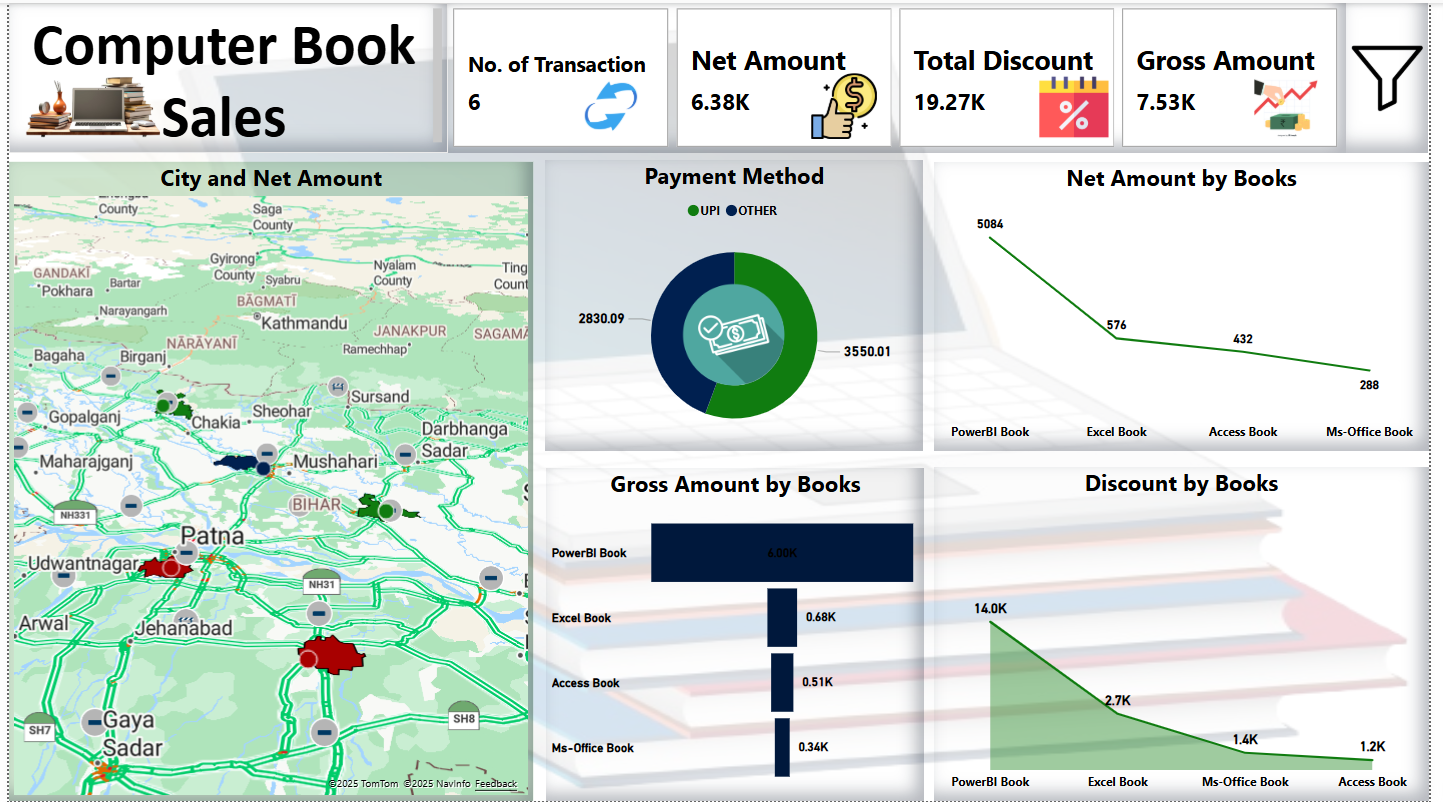

The dashboard page shown, as its layout file describes it:
{"tool":"powerbi","page":{"name":"Book sales Dashboards","canvas":[1280,720],"ordinal":0},"visuals":[{"type":"textbox","box":[0,0,395.7,135.1],"z":0},{"type":"shape","box":[835.2,165.1,373.3,529.1],"z":0,"group":"g1"},{"type":"areaChart","fields":{"Category":["7 Days Books Sales Report File.Books"],"Y":["Sum(7 Days Books Sales Report File.Discount)"]},"box":[833.7,418.6,446.4,301.6],"z":1000},{"type":"advancedSlicerVisual","fields":{"Values":["7 Days Books Sales Report File.State"]},"box":[835,236.2,365.6,286.1],"z":2000,"group":"g1"},{"type":"lineChart","fields":{"Category":["7 Days Books Sales Report File.Books"],"Y":["Sum(7 Days Books Sales Report File.Net Amount)"]},"box":[833.7,143.6,446.4,260.6],"z":2000},{"type":"advancedSlicerVisual","fields":{"Values":["7 Days Books Sales Report File.Payment Method"]},"box":[836.2,521.1,366.8,198.1],"z":3000,"group":"g1"},{"type":"funnel","title":"Gross Amount by Books","fields":{"Category":["7 Days Books Sales Report File.Books"],"Y":["Sum(7 Days Books Sales Report File.Gross Amount)"]},"box":[484.2,418.8,340.9,300.5],"z":3000},{"type":"image","box":[981,163.9,80.4,56.5],"z":4000,"group":"g1"},{"type":"donutChart","title":"Payment Method","fields":{"Category":["7 Days Books Sales Report File.Payment Method"],"Y":["Sum(7 Days Books Sales Report File.Net Amount)"]},"box":[483,141.8,341.2,261.7],"z":4000},{"type":"image","box":[602,235.3,103.8,127.9],"z":5000},{"type":"azureMap","fields":{"Category":["7 Days Books Sales Report File.City"],"Series":["7 Days Books Sales Report File.Net Amount"]},"box":[0,143.6,472.9,576.7],"z":6000},{"type":"cardVisual","fields":{"Data":["CountNonNull(7 Days Books Sales Report File.User ID)","Sum(7 Days Books Sales Report File.Net Amount)","Sum(7 Days Books Sales Report File.Discount)","Sum(7 Days Books Sales Report File.Gross Amount)"]},"box":[395.7,0,809.5,135.1],"z":7000},{"type":"group","id":"g1","title":"Group 1","box":[835,163.9,373.5,555.3],"z":8000},{"type":"image","box":[1206.1,0,73.9,135.3],"z":9000},{"type":"image","box":[483.8,59.1,118.2,68.8],"z":10000},{"type":"image","box":[714.2,59.1,77.2,68.8],"z":11000},{"type":"image","box":[924.1,53.1,72.4,82],"z":12000},{"type":"image","box":[1099.1,59.1,107.4,68.8],"z":13000},{"type":"image","box":[0,22.9,152,143.6],"z":14000}]}

Visuals, with their boxes in screenshot pixels (x1, y1, x2, y2), scaled from the page's 1280x720 canvas onto the 1443x802 screenshot:
textbox: bbox=[0, 0, 446, 150]
shape: bbox=[942, 184, 1362, 773]
areaChart - 7 Days Books Sales Report File.Books x Sum(7 Days Books Sales Report File.Discount): bbox=[940, 466, 1442, 801]
advancedSlicerVisual - 7 Days Books Sales Report File.State: bbox=[941, 263, 1353, 582]
lineChart - 7 Days Books Sales Report File.Books x Sum(7 Days Books Sales Report File.Net Amount): bbox=[940, 160, 1442, 450]
advancedSlicerVisual - 7 Days Books Sales Report File.Payment Method: bbox=[943, 580, 1356, 801]
"Gross Amount by Books" funnel: bbox=[546, 466, 930, 801]
image: bbox=[1106, 183, 1197, 246]
"Payment Method" donutChart: bbox=[545, 158, 929, 449]
image: bbox=[679, 262, 796, 405]
azureMap - 7 Days Books Sales Report File.City x 7 Days Books Sales Report File.Net Amount: bbox=[0, 160, 533, 801]
cardVisual - CountNonNull(7 Days Books Sales Report File.User ID) x Sum(7 Days Books Sales Report File.Net Amount): bbox=[446, 0, 1359, 150]
"Group 1" group: bbox=[941, 183, 1362, 801]
image: bbox=[1360, 0, 1442, 151]
image: bbox=[545, 66, 679, 142]
image: bbox=[805, 66, 892, 142]
image: bbox=[1042, 59, 1123, 150]
image: bbox=[1239, 66, 1360, 142]
image: bbox=[0, 26, 171, 185]
